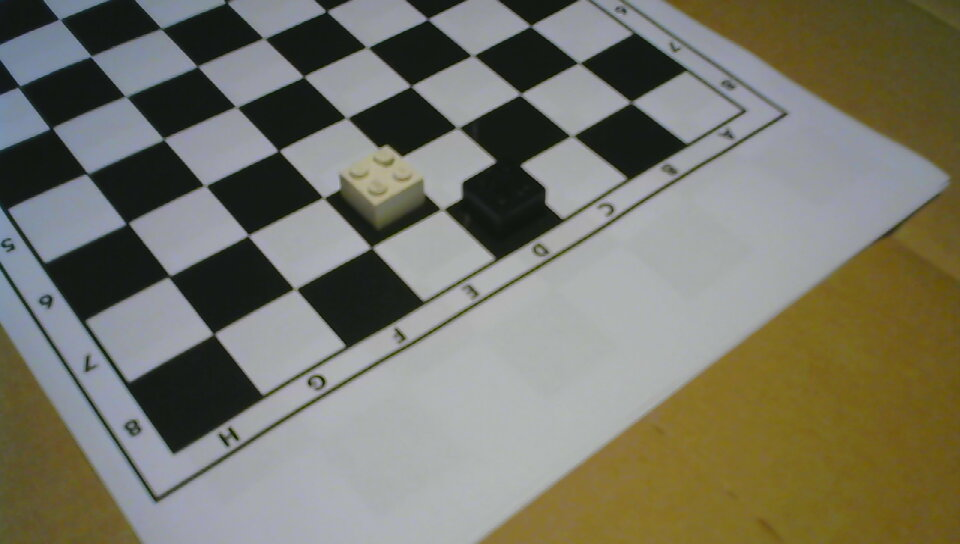bp: (460, 159, 548, 239)
wp: (340, 144, 427, 231)
